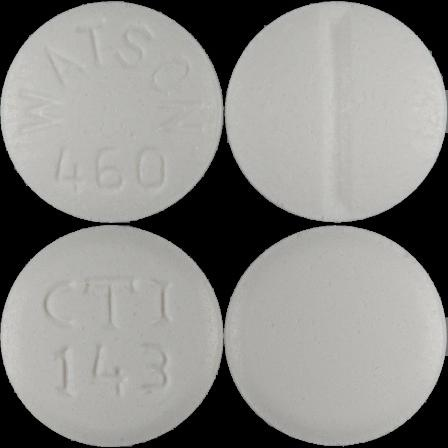50436-6463: (0, 0, 224, 224)
